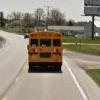Bus: (23, 29, 68, 76)
